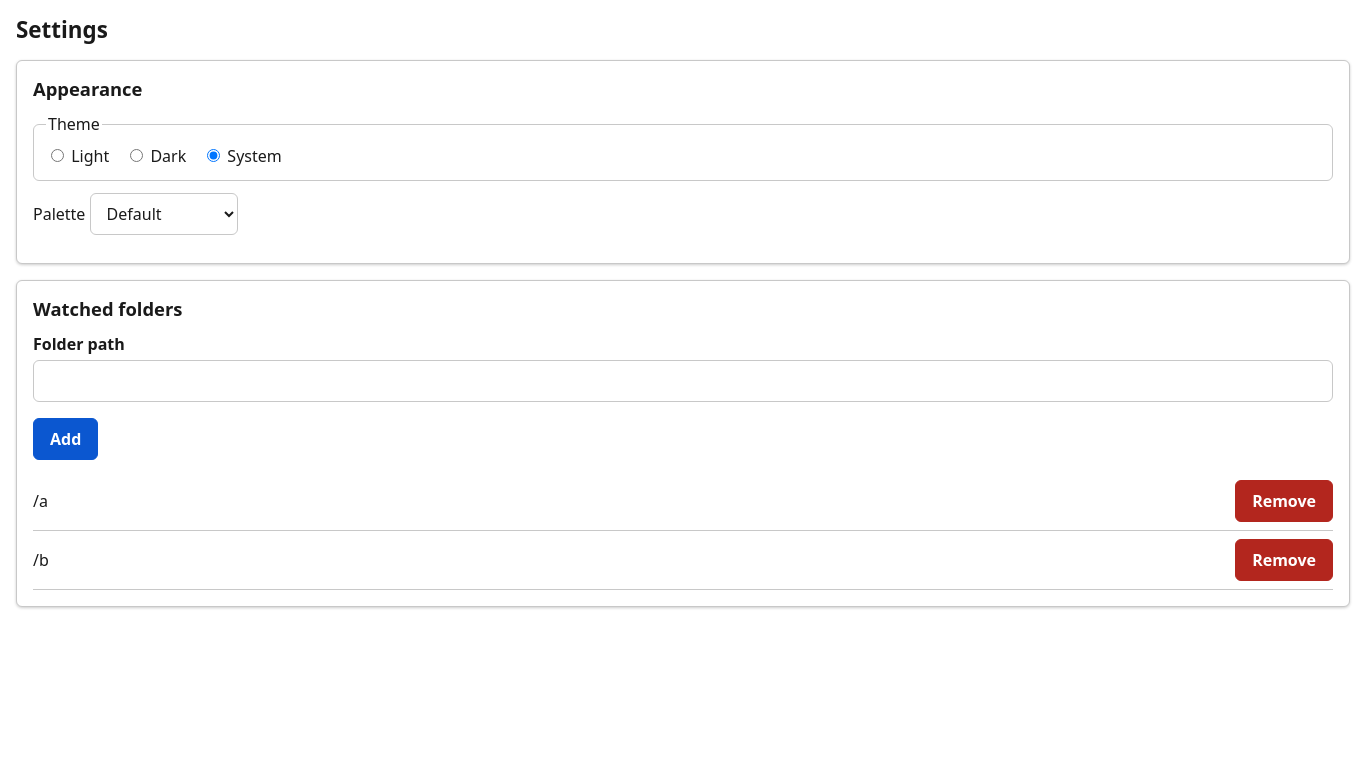
Test: removes a folder via DELETE by id
Expected: the text "/a" is shown, [33, 489, 48, 513]
Click the button "Remove" in the row of "/a" at {"x": 1284, "y": 501}, box [1235, 480, 1333, 522]
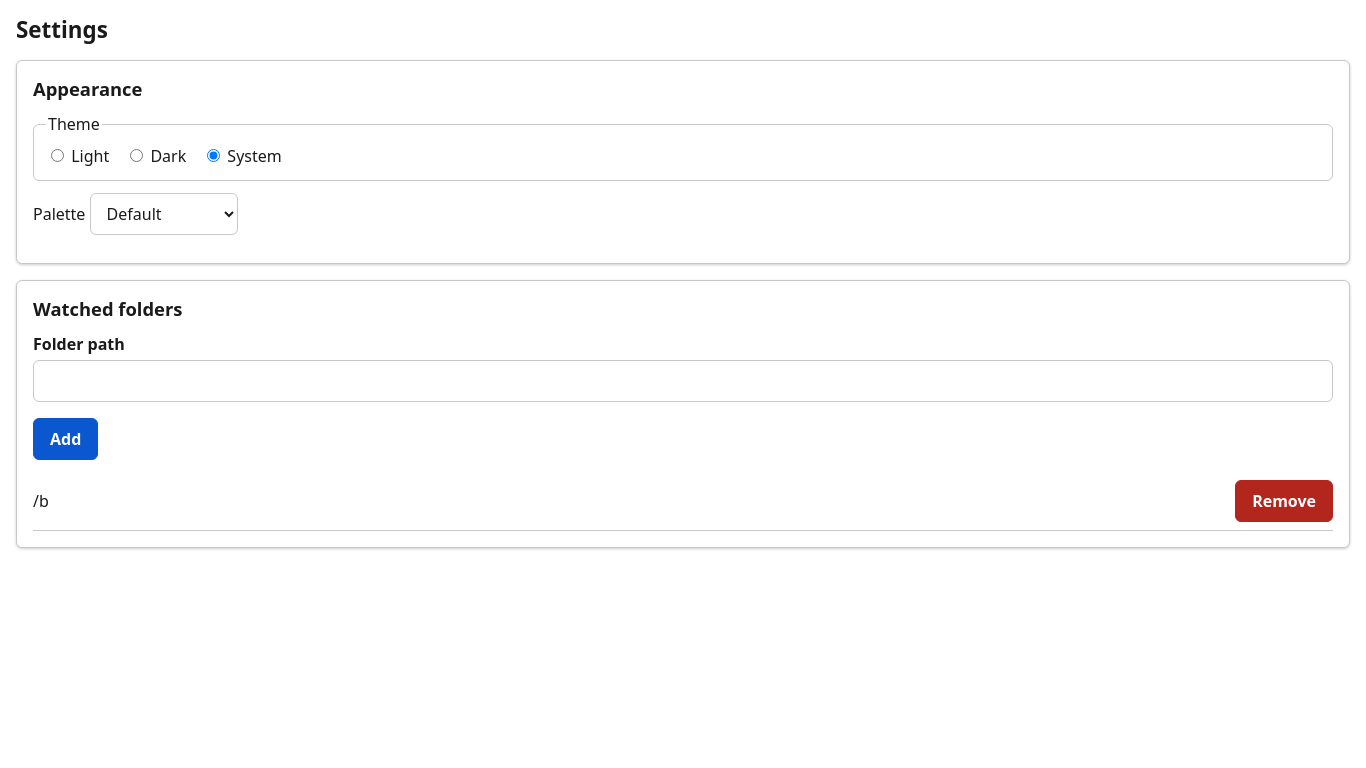
Expected: the text "/b" is shown, [33, 489, 49, 513]
Result: the text "/a" is gone
